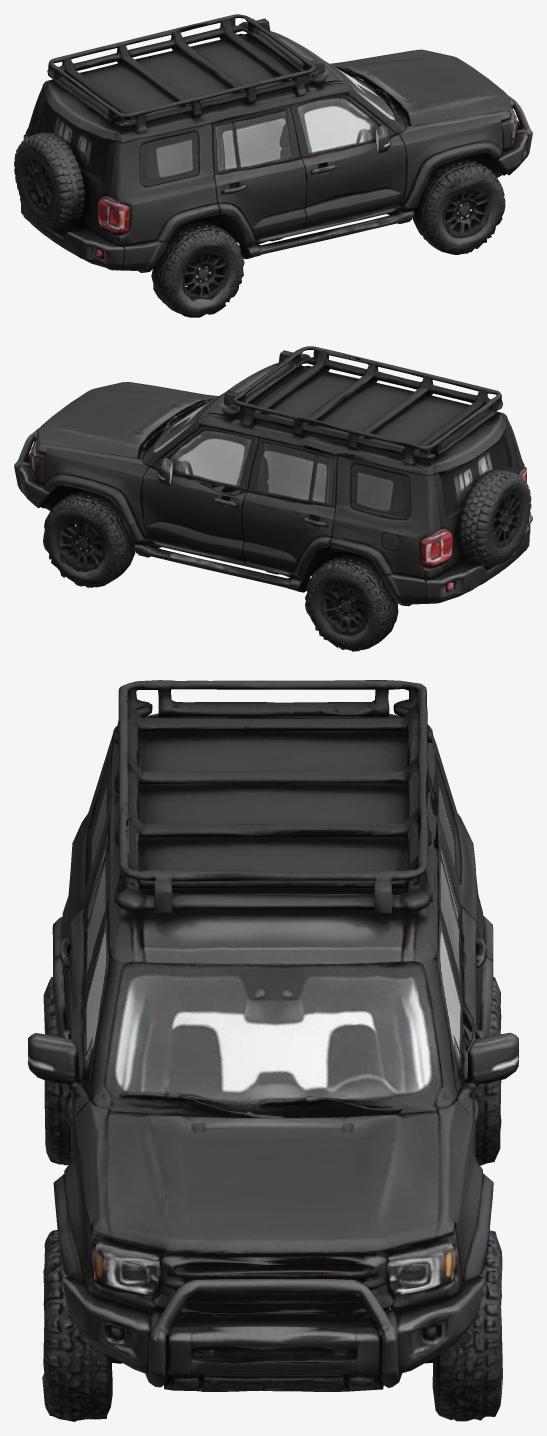
Rendered from rb_ridgeback_drive.glb.
3 renders of one model, top to bottom at view 1: azimuth 30°, elevation 25°; view 2: azimuth 150°, elevation 25°; view 3: azimuth 270°, elevation 25°, orthographic. The views are drawn at different scales.
Visible parts, largest first — view 1: body, wheel_RR_part, wheel_FR_part; view 2: body, wheel_RL_part, wheel_FL_part; view 3: body, wheel_FR_part, wheel_FL_part, wheel_RR_part, wheel_RL_part.
Boxes of the visible parts, box(x1,y1,x2,y2) form: body: box(14, 14, 532, 272); wheel_RR_part: box(151, 222, 244, 317); wheel_FR_part: box(413, 158, 505, 254); body: box(14, 346, 532, 606); wheel_RL_part: box(305, 555, 398, 651); wheel_FL_part: box(43, 491, 135, 587); body: box(27, 680, 519, 1391); wheel_FR_part: box(42, 1230, 119, 1421); wheel_FL_part: box(427, 1230, 502, 1421); wheel_RR_part: box(43, 977, 70, 1165); wheel_RL_part: box(475, 977, 501, 1165).
Bounding box in the file's own units: 1.9 × 0.8044 × 0.8665.
5 materials, 5 textured.
